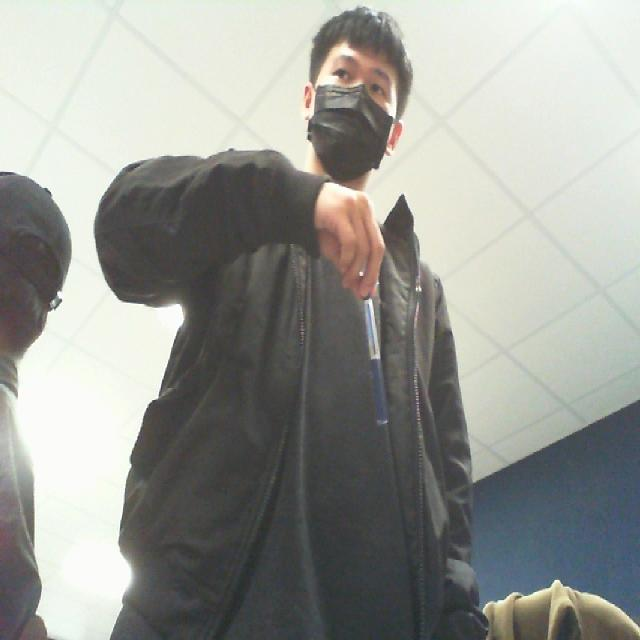Pen: (358, 258, 404, 463)
